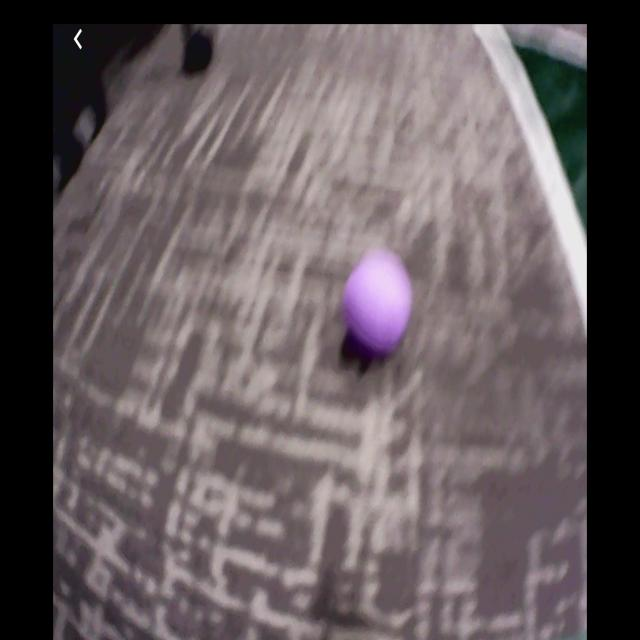ball: (341, 246, 413, 357)
